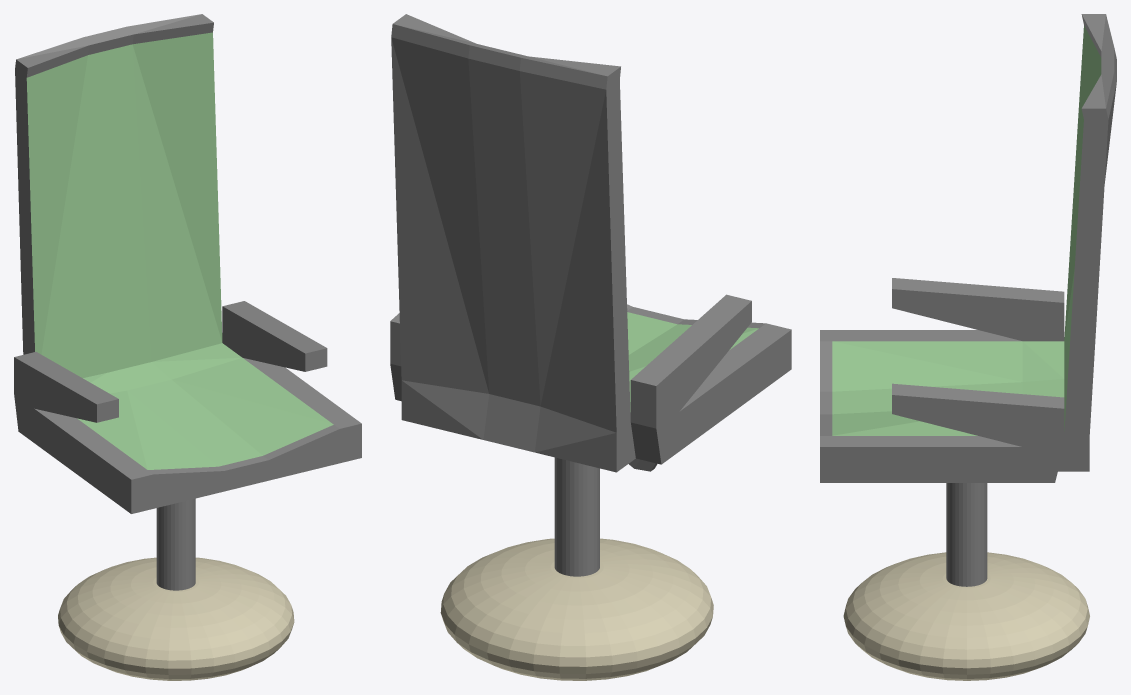
File: krzeslo.fbx
The picture shows the model from 3 angles, left to right: view 1: azimuth 30°, elevation 25°; view 2: azimuth 150°, elevation 25°; view 3: azimuth 270°, elevation 25°; orthographic projection. The views are drawn at different scales.
Parts seen in each view (by area): view 1: Cube, Sphere, Cylinder; view 2: Cube, Sphere, Cylinder; view 3: Cube, Sphere, Cylinder.
Boxes of the visible parts, x1=… form: Cube: x1=14, y1=14, x2=361, y2=513; Sphere: x1=58, y1=557, x2=294, y2=680; Cylinder: x1=156, y1=498, x2=195, y2=590; Cube: x1=390, y1=14, x2=791, y2=472; Sphere: x1=440, y1=538, x2=713, y2=680; Cylinder: x1=554, y1=457, x2=599, y2=576; Cube: x1=820, y1=14, x2=1116, y2=482; Sphere: x1=843, y1=552, x2=1089, y2=680; Cylinder: x1=946, y1=483, x2=987, y2=586.
Bounding box in the file's own units: 346 × 804 × 370.
